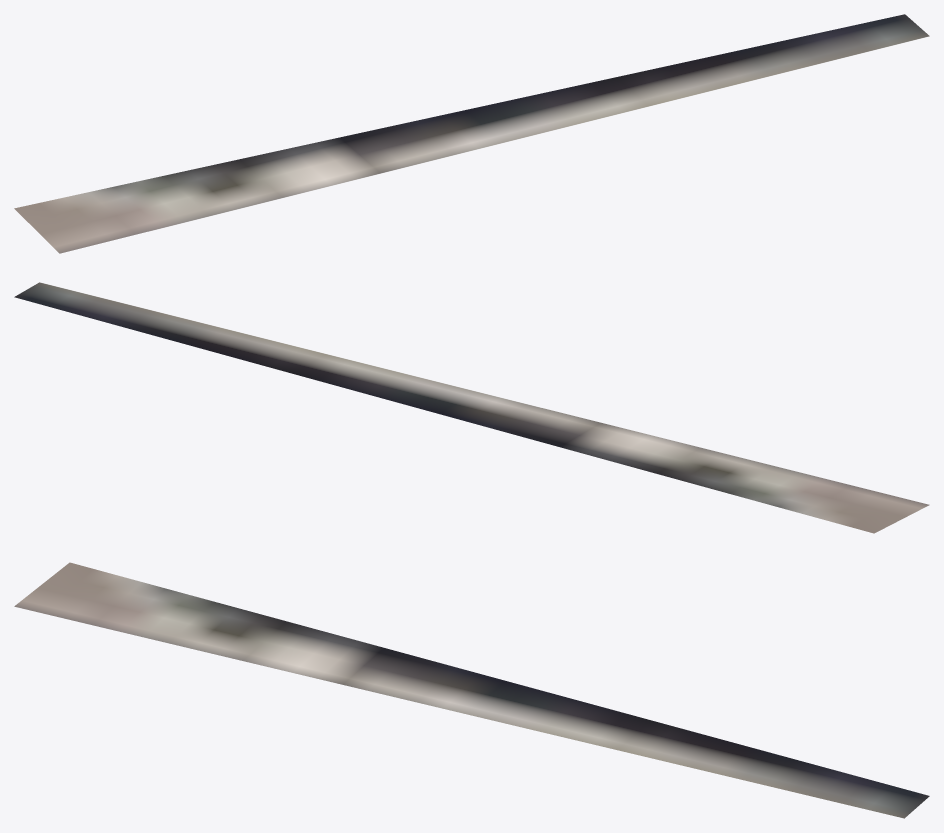
Rendered from ID_96e22e81-dce7-4ef7-8e6f-0beebc409c9b.gltf.
3 renders of one model, top to bottom at view 1: azimuth 30°, elevation 25°; view 2: azimuth 150°, elevation 25°; view 3: azimuth 330°, elevation 25°, orthographic. The views are drawn at different scales.
Parts seen in each view (by area): view 1: Z_UP; view 2: Z_UP; view 3: Z_UP.
Part boxes in pixels (<box>): Z_UP: <box>14,14,929,253</box>; Z_UP: <box>14,282,929,533</box>; Z_UP: <box>14,562,929,818</box>.
Size of the model in its own units: 17.41 by 0.1711 by 1.74.
1 material, 1 textured.
